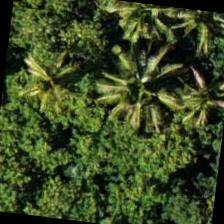Kelapa_Sawit: (105, 41, 205, 141), (0, 25, 100, 125), (155, 53, 223, 152), (86, 0, 182, 56), (155, 5, 223, 65)
